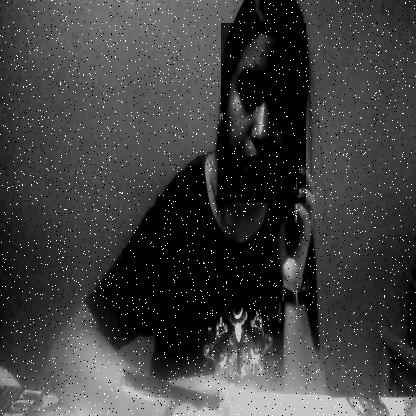Normal: (221, 23, 306, 204)
